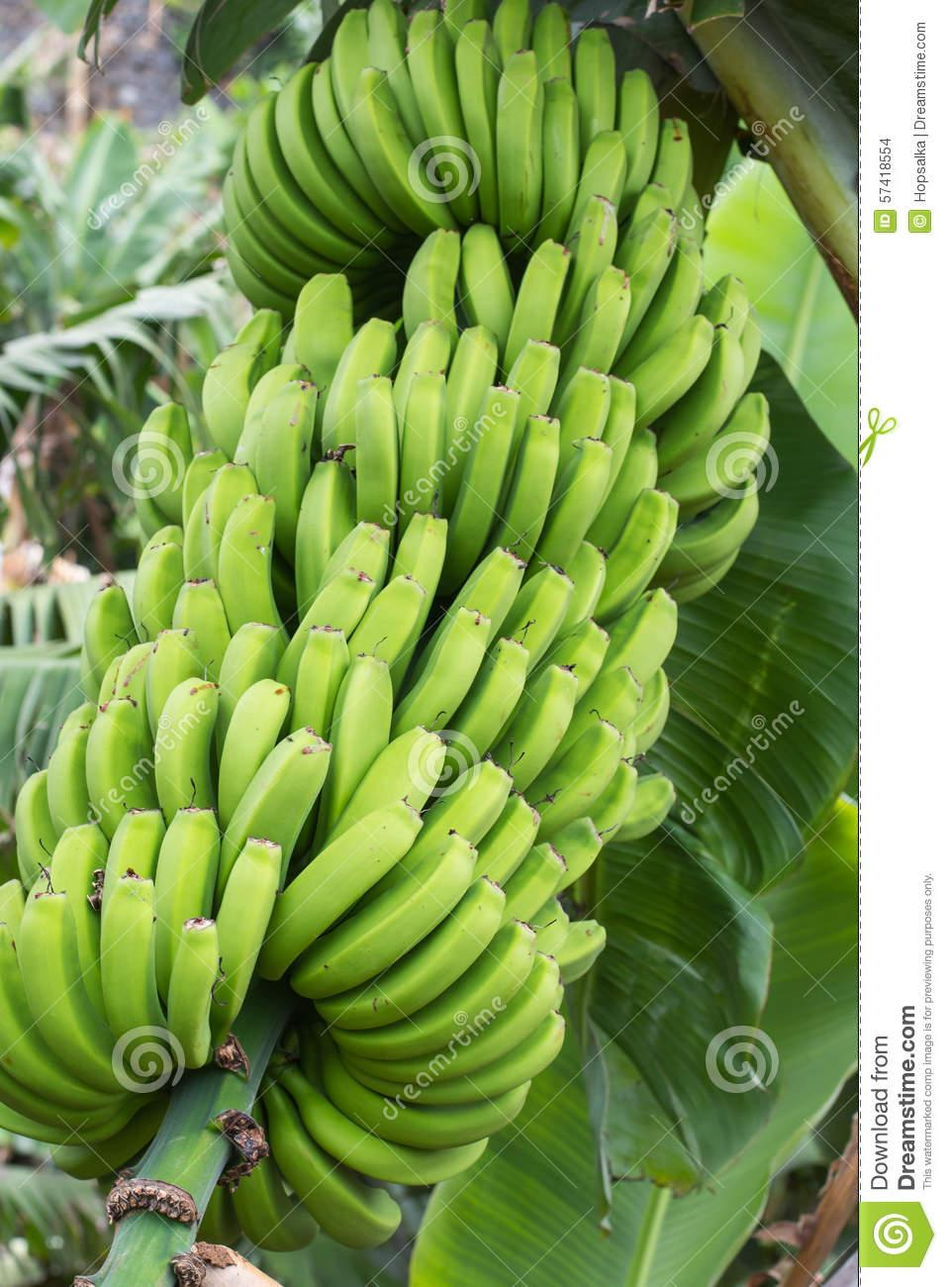Banana Unripe: (46, 10, 755, 1287)
